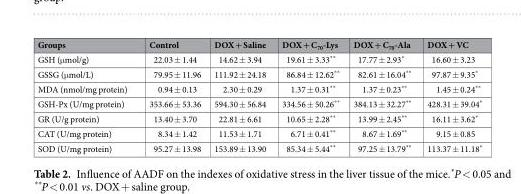table: (36, 37, 481, 154)
table column: (36, 37, 137, 154), (345, 37, 418, 154), (273, 37, 345, 154), (137, 37, 206, 154), (206, 37, 273, 154), (418, 37, 481, 154)
table column header: (36, 37, 481, 51)
table row: (36, 51, 481, 66), (36, 66, 481, 81), (36, 95, 481, 110), (36, 110, 481, 125), (36, 125, 481, 140), (36, 37, 481, 51), (36, 81, 481, 95), (36, 140, 481, 154)
